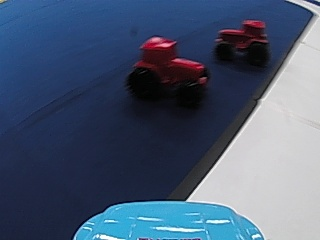tractor: (126, 32, 212, 105), (213, 17, 270, 65)
